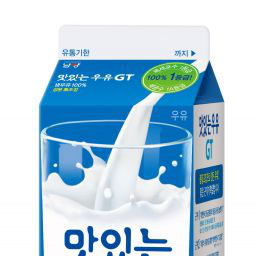milk: (38, 24, 225, 256)
